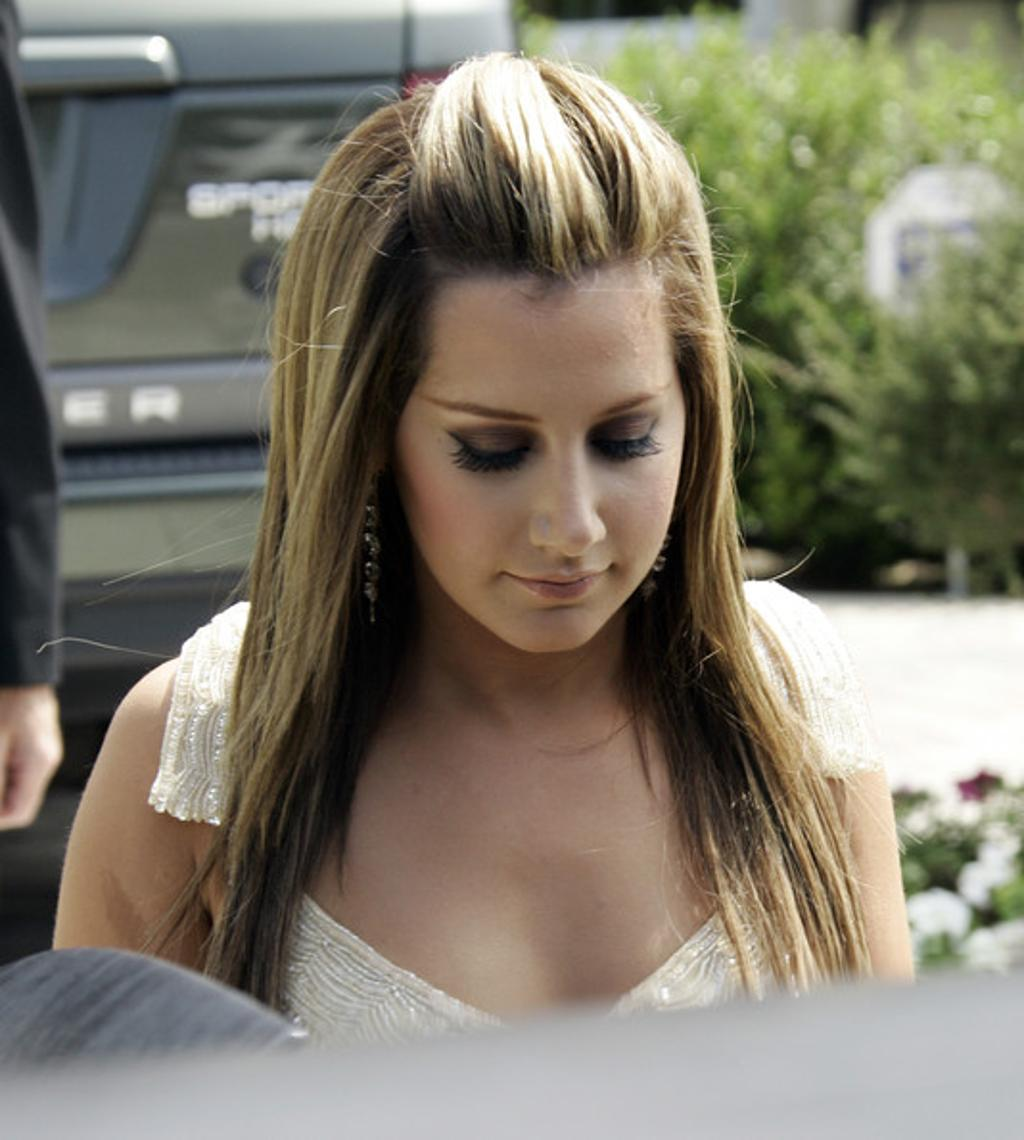face: (392, 229, 688, 650)
